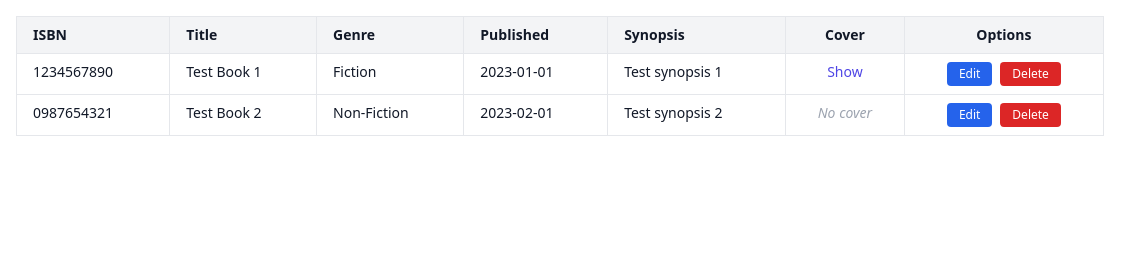
it: BookTable Component › cancels edit mode when cancel button is clicked
Step 1. Click the button "Edit" in the row of "1234567890" → [970, 74], box [947,62,992,86]
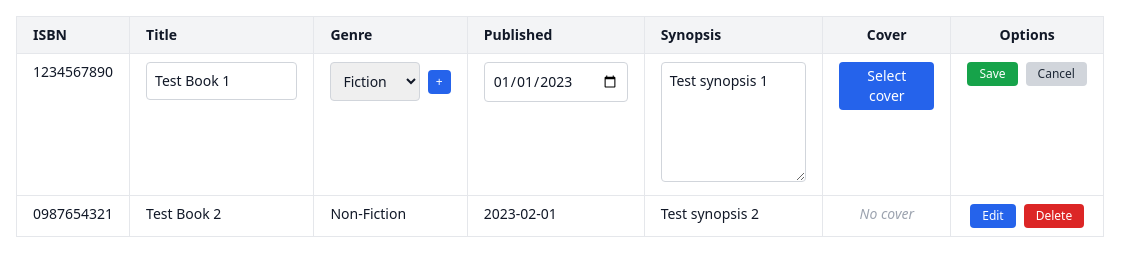
Step 2. Click the button "Cancel" → [1056, 74], box [1026,62,1087,86]
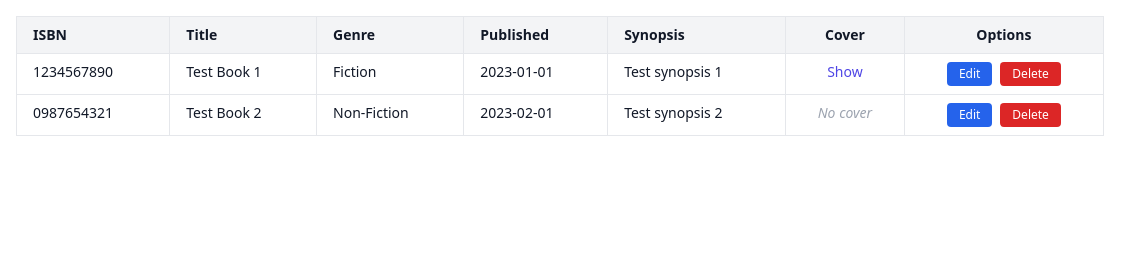
Check: the button "Save" is gone
Check: the text "Test Book 1" is shown, box [170,54,317,94]
